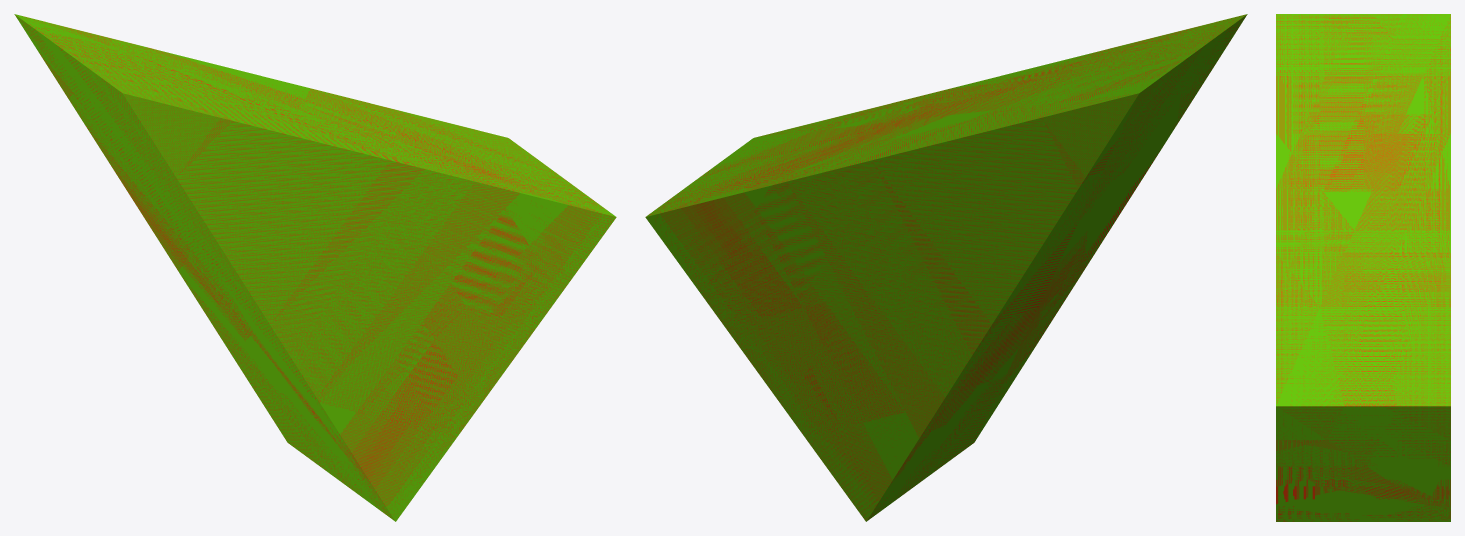
Rendered from cake_green.dae.
3 views of the same model, side by side, from view 1: azimuth 30°, elevation 25°; view 2: azimuth 150°, elevation 25°; view 3: azimuth 270°, elevation 25° (orthographic). The views are drawn at different scales.
Visible parts, largest first — view 1: SketchUp; view 2: SketchUp; view 3: SketchUp.
Part boxes in pixels (x1,y1,x2,y2): SketchUp: [14, 14, 616, 521]; SketchUp: [645, 14, 1247, 521]; SketchUp: [1276, 14, 1450, 521].
Size of the model in its own units: 128 by 48.43 by 122.
